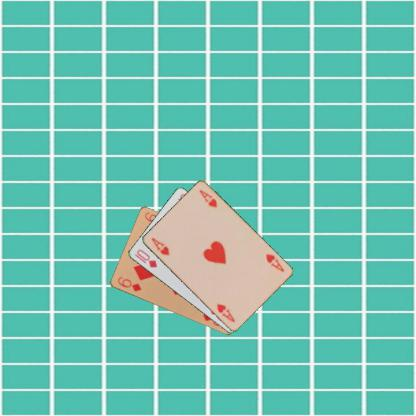10d: (132, 246, 158, 268)
6d: (115, 274, 143, 293)
Ah: (148, 235, 170, 257), (263, 252, 285, 274)
